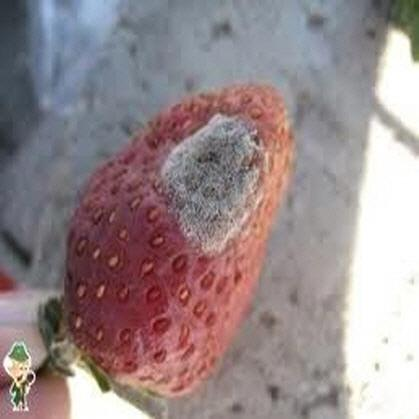Gray Mold: (150, 109, 270, 262)
